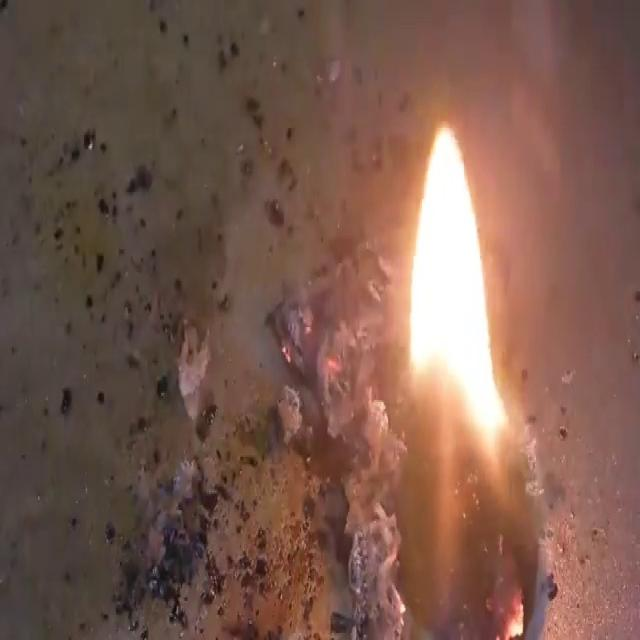Fire: (4, 4, 636, 636), (405, 119, 511, 455)
